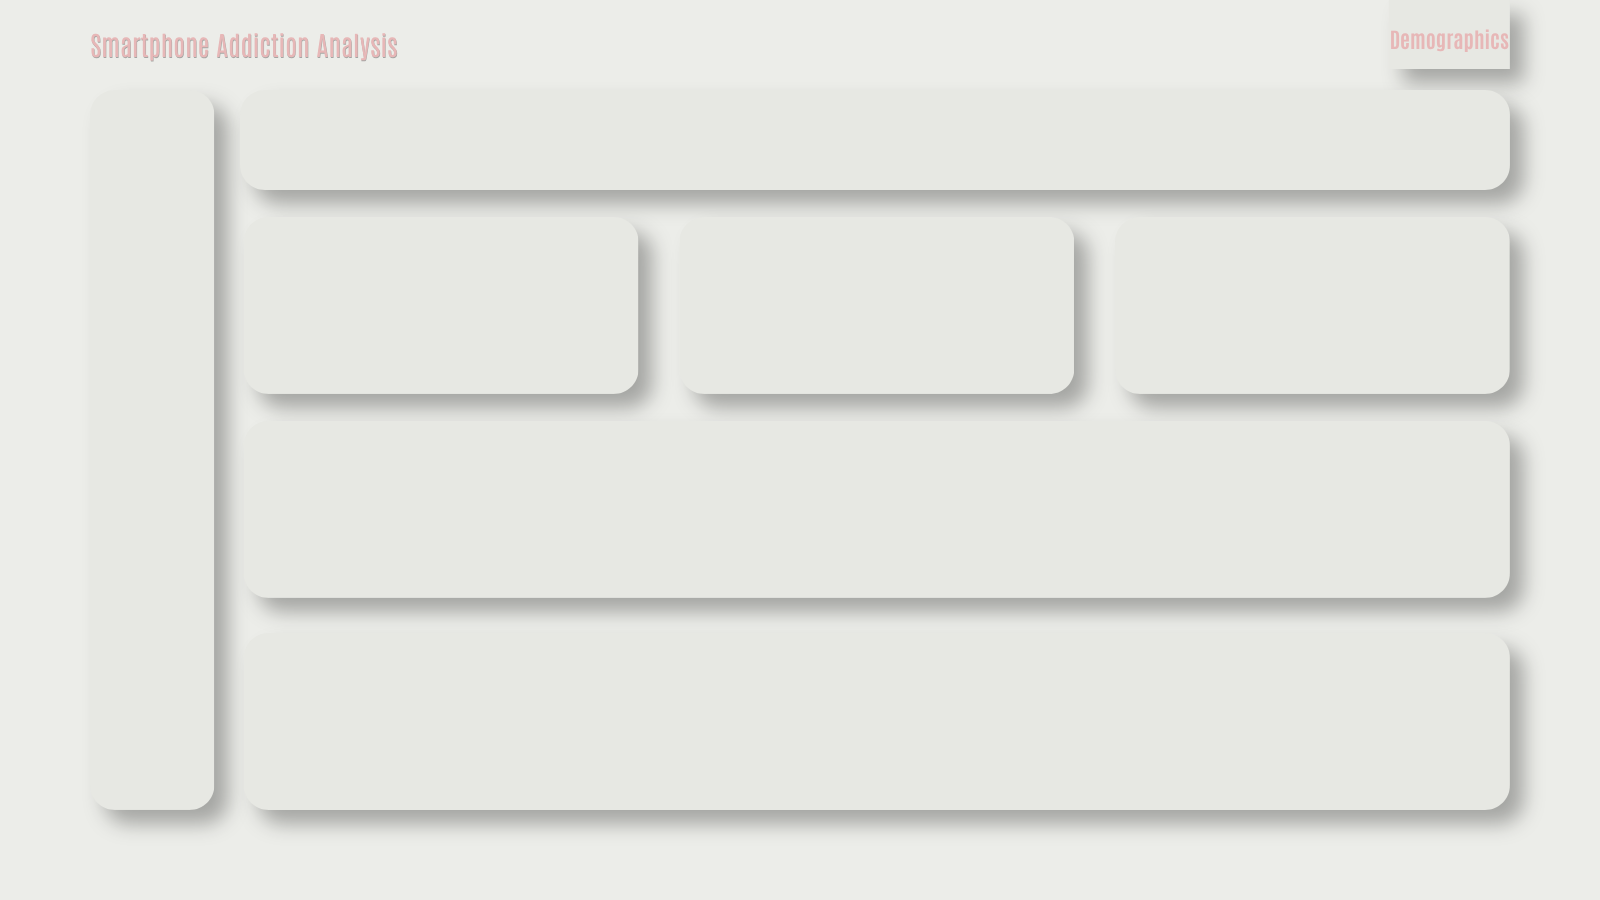

Layout of this report page (visuals, bound fields, positions):
{"tool":"powerbi","page":{"name":"Demogrpahics","canvas":[1280,720],"ordinal":1},"visuals":[{"type":"card","fields":{"Values":["Avg(smartphone_addiction_cleaned.age)"]},"box":[250.7,79.7,167.5,199.7],"z":0},{"type":"card","fields":{"Values":["Min(smartphone_addiction_cleaned.age)"]},"box":[277.6,296.4,215.8,205.1],"z":1000},{"type":"card","fields":{"Values":["Max(smartphone_addiction_cleaned.age)"]},"box":[290.1,545.4,240,111.9],"z":2000},{"type":"tableEx","fields":{"Values":["smartphone_addiction_cleaned.user_id","Sum(smartphone_addiction_cleaned.addicted_label)","smartphone_addiction_cleaned.gender"]},"box":[520.3,122.7,428.1,139.7],"z":3000}]}

Visuals, with their boxes in screenshot pixels (x1, y1, x2, y2), scaled from the page's 1280x720 canvas onto the 1600x900 screenshot:
card - Avg(smartphone_addiction_cleaned.age): [x1=313, y1=100, x2=523, y2=349]
card - Min(smartphone_addiction_cleaned.age): [x1=347, y1=370, x2=617, y2=627]
card - Max(smartphone_addiction_cleaned.age): [x1=363, y1=682, x2=663, y2=822]
tableEx - smartphone_addiction_cleaned.user_id x Sum(smartphone_addiction_cleaned.addicted_label): [x1=650, y1=153, x2=1186, y2=328]
